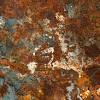rust: (1, 3, 68, 21), (70, 7, 100, 43), (25, 79, 70, 99), (8, 53, 57, 71), (45, 65, 83, 83), (50, 28, 66, 61), (13, 22, 43, 39), (81, 63, 100, 84), (84, 42, 100, 59)
